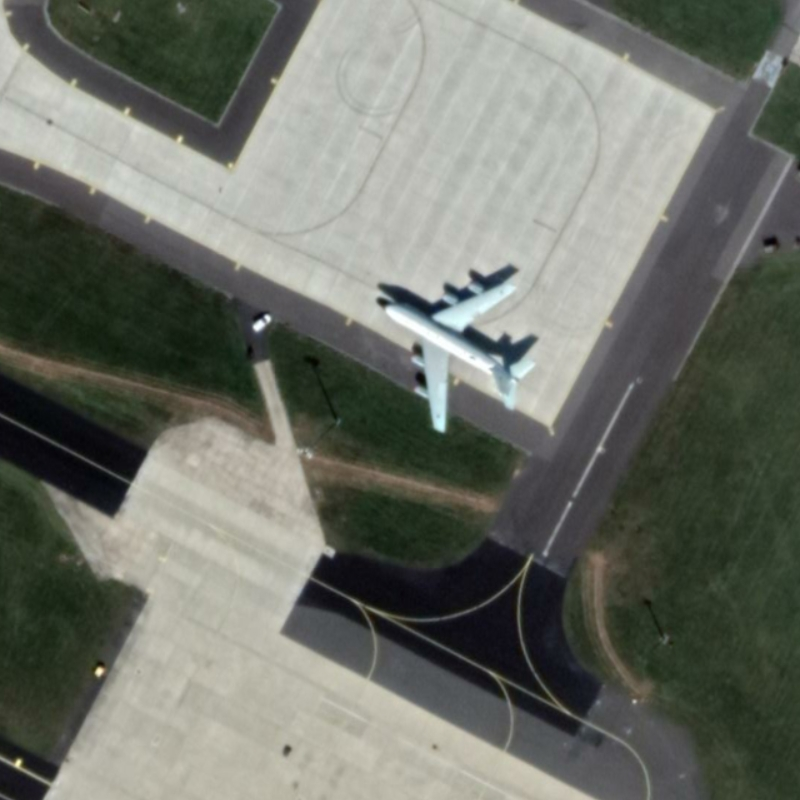A11: (367, 250, 563, 444)
